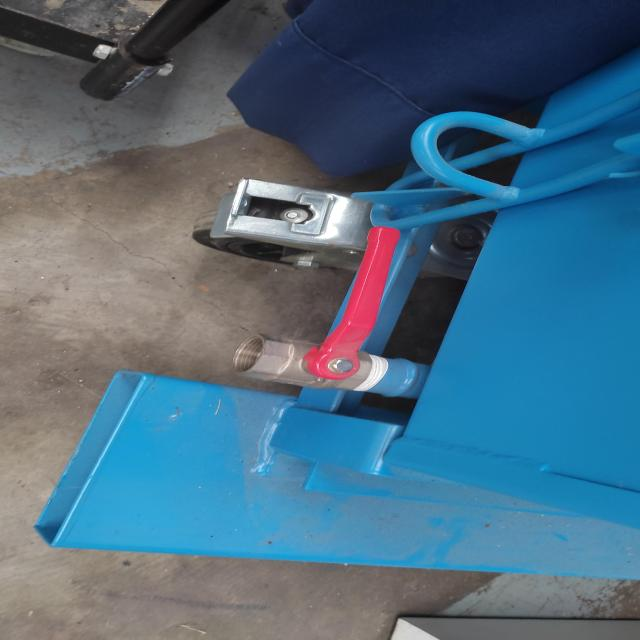closed_valve: (244, 222, 407, 398)
